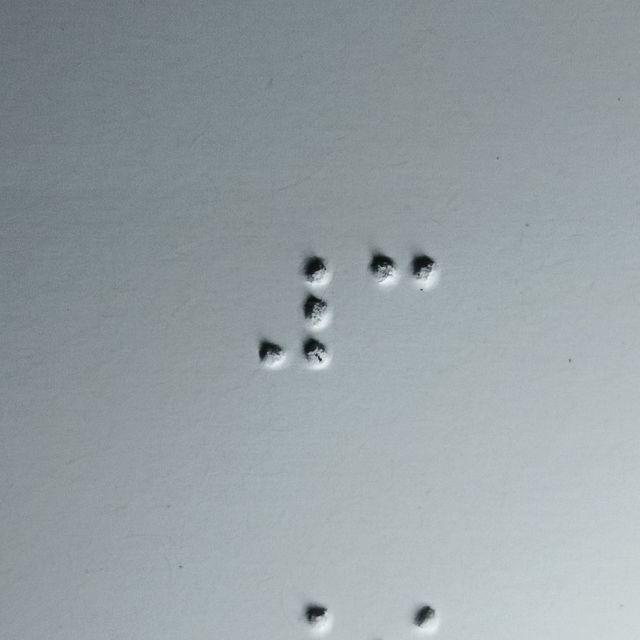3: (367, 252, 441, 369)
number: (256, 254, 330, 371)
